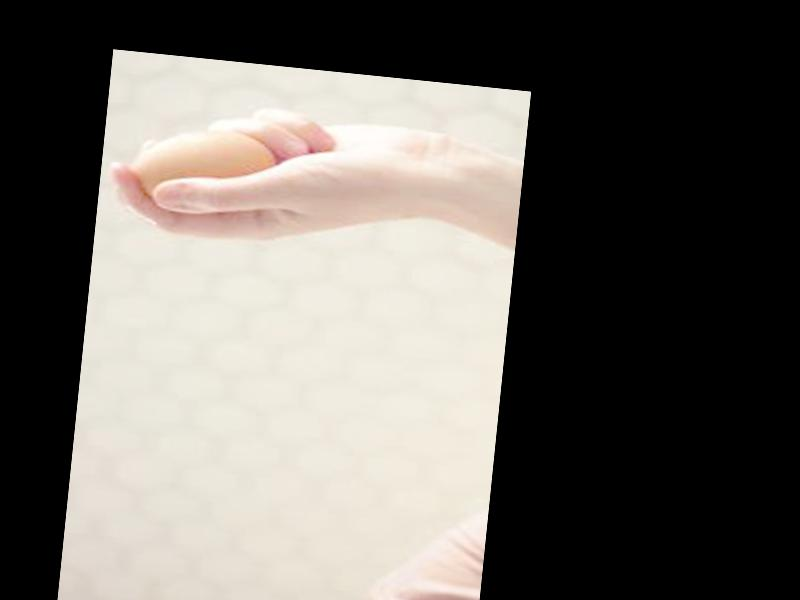Eggs: (130, 119, 278, 214)
